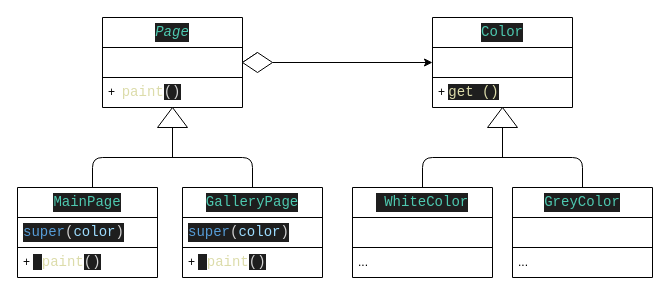
This 670x295 diagram has some shape labels left out. The shapes that lost their labels are listed below. From the top down, each one's centre as x and y in pixels, then its label:
point 172,62: + color
point 502,62: + type
point 422,232: super ( "white" )
point 582,232: super ( "grey" )
